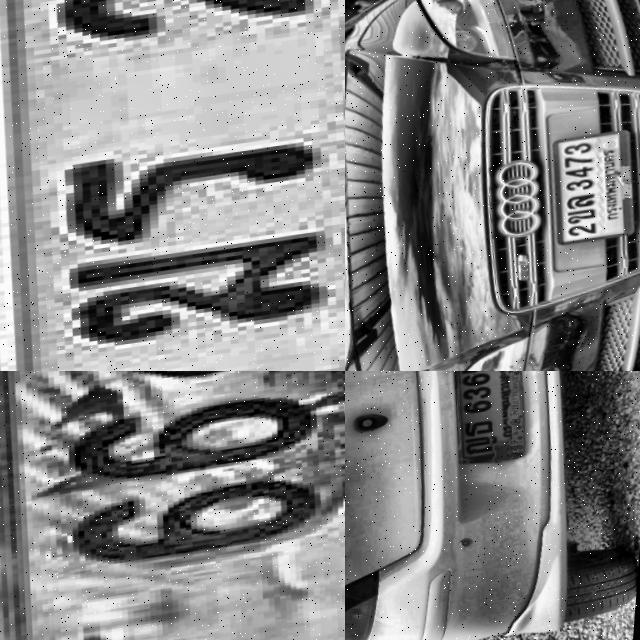license-plate: (0, 0, 345, 371), (0, 371, 345, 640), (543, 128, 640, 251), (442, 371, 538, 471)
